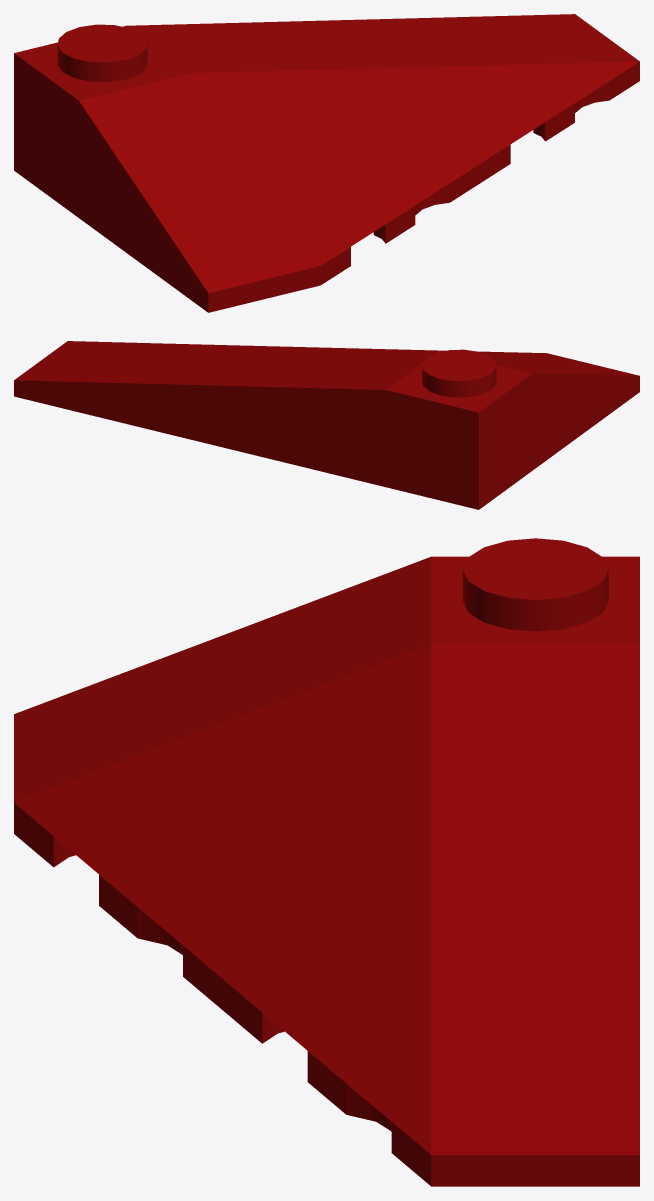
The model's file is SM_CornerRamp_5x3x1_R.gltf.
The picture shows the model from 3 angles, top to bottom: view 1: azimuth 30°, elevation 25°; view 2: azimuth 150°, elevation 25°; view 3: azimuth 270°, elevation 25°; orthographic projection. The views are drawn at different scales.
Visible parts, largest first — view 1: SM_CornerRamp_5x3x1_R; view 2: SM_CornerRamp_5x3x1_R; view 3: SM_CornerRamp_5x3x1_R.
Part boxes in pixels (box(x1,y1,x2,y2)): SM_CornerRamp_5x3x1_R: box(14, 14, 639, 312); SM_CornerRamp_5x3x1_R: box(14, 341, 639, 509); SM_CornerRamp_5x3x1_R: box(14, 538, 639, 1186).
Bounding box in the file's own units: 1.5 × 0.35 × 0.9.
